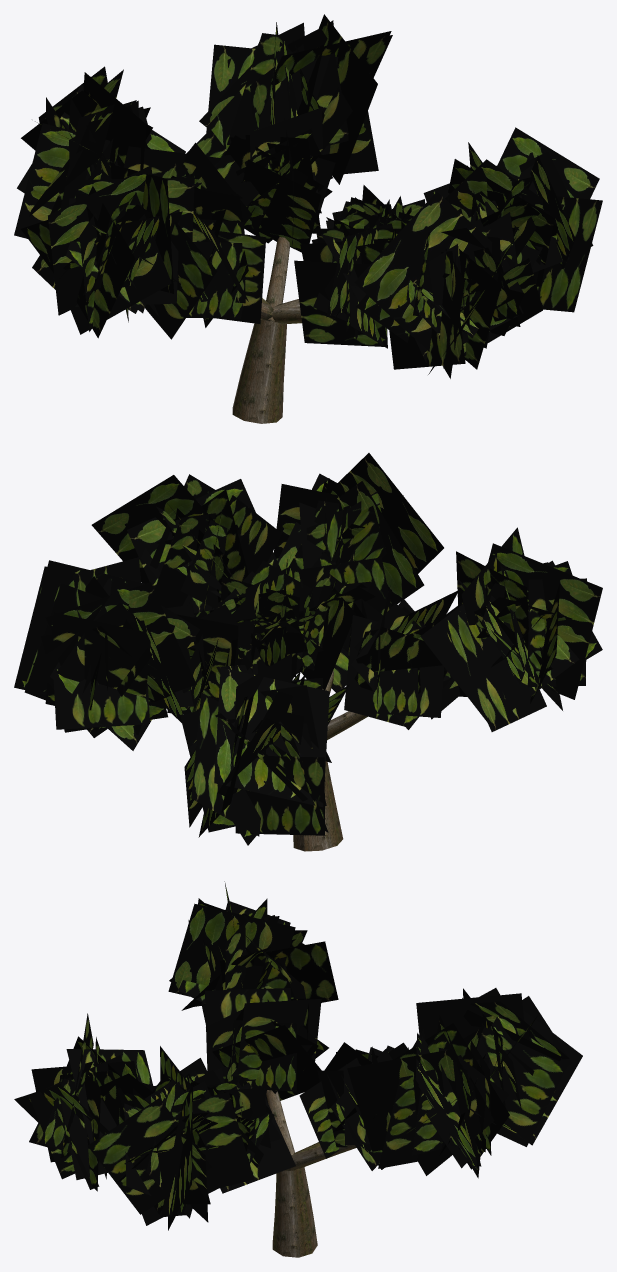
Rendered from fig_5.glb.
3 views of the same model, one above another, from view 1: azimuth 30°, elevation 25°; view 2: azimuth 150°, elevation 25°; view 3: azimuth 270°, elevation 25° (orthographic). The views are drawn at different scales.
Parts seen in each view (by area): view 1: fig; view 2: fig; view 3: fig.
Boxes of the visible parts, x1,y1,x2,y2 form: fig: (14,14,602,423); fig: (14,453,602,851); fig: (14,881,582,1257).
Bounding box in the file's own units: 11.84 × 6.68 × 12.68.
2 materials, 2 textured.
